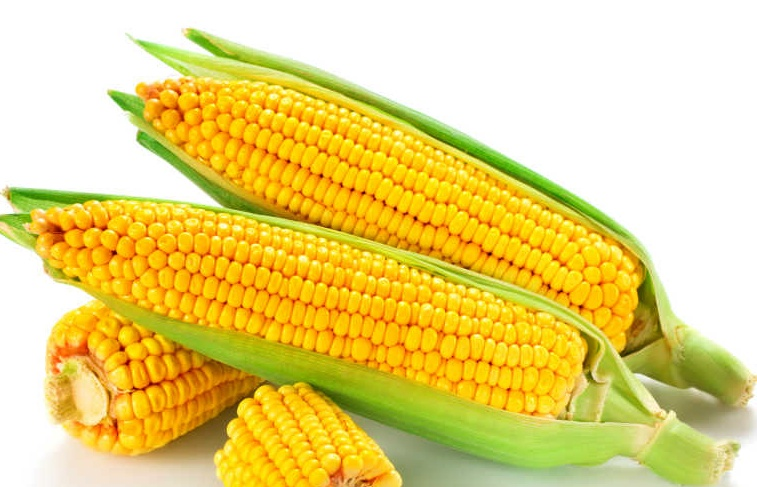corn: (130, 56, 743, 384), (15, 184, 663, 447)
